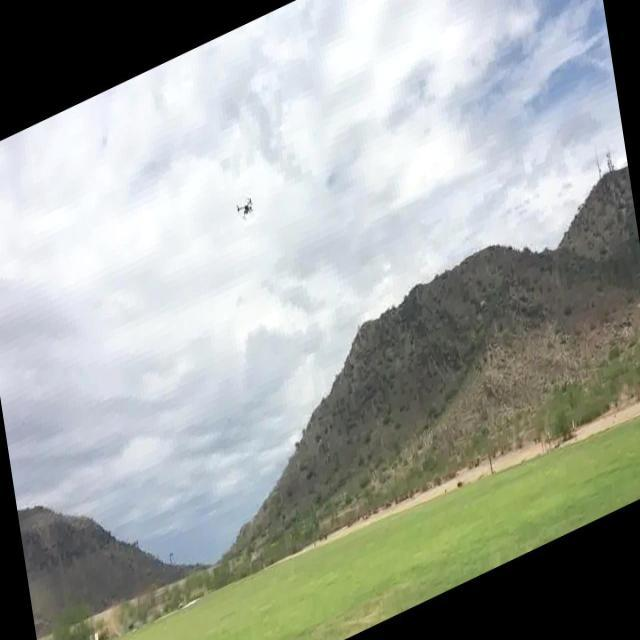drone: (233, 188, 259, 227)
